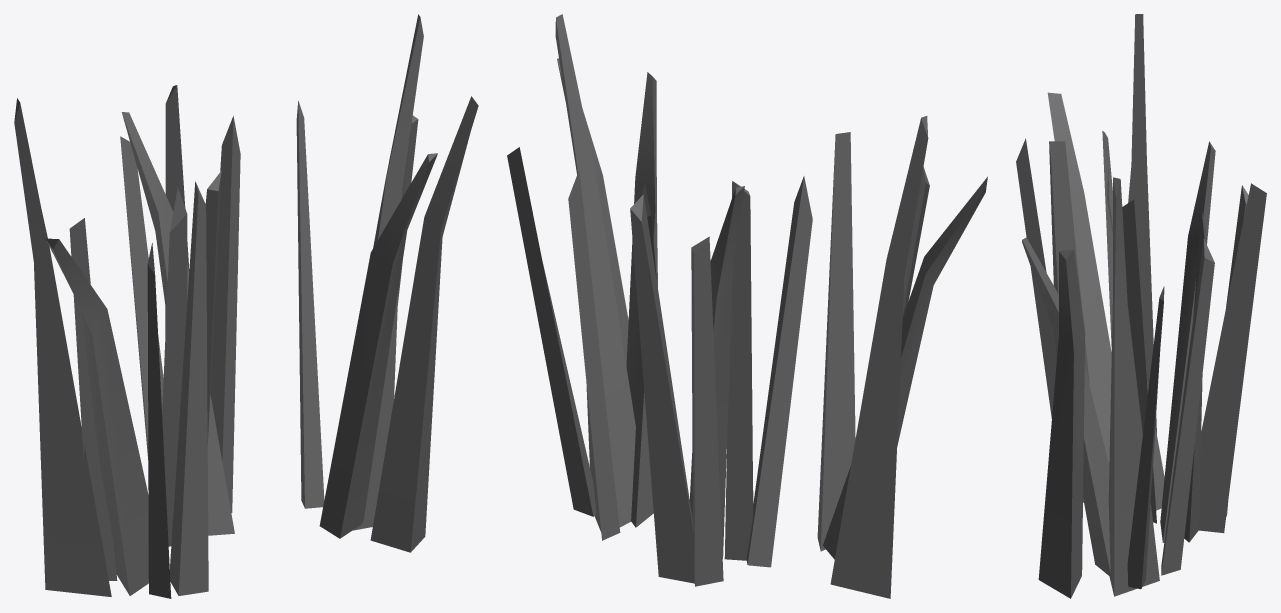
Rendered from SM_Gen_Env_Grass_Tall_02.glb.
3 renders of one model, left to right at view 1: azimuth 30°, elevation 25°; view 2: azimuth 150°, elevation 25°; view 3: azimuth 270°, elevation 25°, orthographic. The views are drawn at different scales.
Visible parts, largest first — view 1: SM_Gen_Env_Grass_Tall_02; view 2: SM_Gen_Env_Grass_Tall_02; view 3: SM_Gen_Env_Grass_Tall_02.
Part boxes in pixels (left/top/right/bottom): SM_Gen_Env_Grass_Tall_02: left=14, top=14, right=478, bottom=598; SM_Gen_Env_Grass_Tall_02: left=507, top=14, right=987, bottom=598; SM_Gen_Env_Grass_Tall_02: left=1016, top=14, right=1266, bottom=598.
Size of the model in its own units: 1.28 by 1.42 by 0.7449.
1 material, 1 textured.
